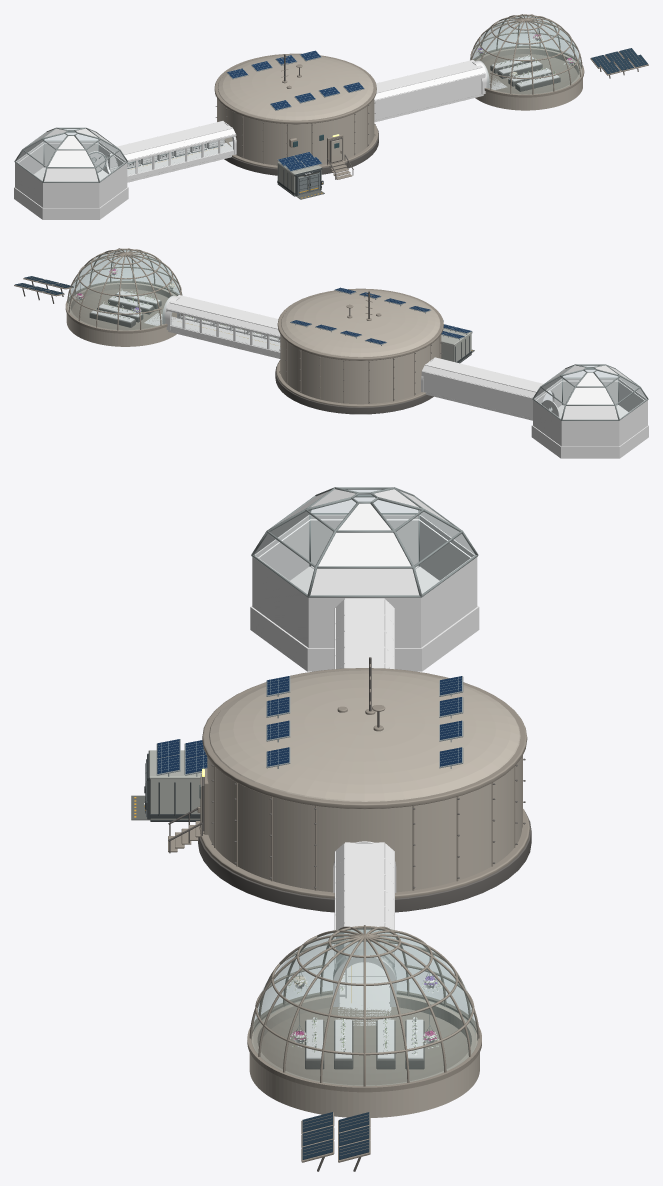
The model's file is rocketship-laboratory.glb.
3 renders of one model, top to bottom at view 1: azimuth 30°, elevation 25°; view 2: azimuth 150°, elevation 25°; view 3: azimuth 270°, elevation 25°, orthographic. The views are drawn at different scales.
Visible parts, largest first — view 1: Rounded habitat roof, Transparent greenhouse dome, Hollow habitat wall with doorway, Hexagonal faceted dome roof, Corridor right pressure wall, Greenhouse base, Greenhouse floor, Hex dome foundation, Hex dome wall 4, Habitat roof rim, West Corridor ceiling panels, Corridor ceiling panels (+14 smaller); view 2: Rounded habitat roof, Hollow habitat wall with doorway, Transparent greenhouse dome, Hexagonal faceted dome roof, West Corridor right pressure wall, Greenhouse base, Greenhouse floor, Hex dome foundation, Hex dome wall 2, Habitat lower foundation, Habitat roof rim, West Corridor ceiling panels (+14 smaller); view 3: Rounded habitat roof, Transparent greenhouse dome, Hollow habitat wall with doorway, Hexagonal faceted dome roof, Greenhouse base, Greenhouse floor, Habitat roof rim, Hex dome foundation, Habitat lower foundation, Corridor ceiling panels, Hex dome wall 5, Hex dome wall 1 (+12 smaller).
Boxes of the visible parts, x1,y1,x2,y2 form: Rounded habitat roof: [218, 54, 373, 120]; Transparent greenhouse dome: [470, 16, 581, 94]; Hollow habitat wall with doorway: [217, 99, 373, 165]; Hexagonal faceted dome roof: [16, 128, 126, 181]; Corridor right pressure wall: [374, 73, 485, 120]; Greenhouse base: [475, 47, 582, 110]; Greenhouse floor: [483, 54, 578, 94]; Hex dome foundation: [14, 187, 128, 219]; Hex dome wall 4: [43, 183, 99, 207]; Habitat roof rim: [214, 53, 376, 124]; West Corridor ceiling panels: [117, 121, 232, 154]; Corridor ceiling panels: [376, 60, 482, 93]; Rounded habitat roof: [281, 289, 440, 357]; Hollow habitat wall with doorway: [280, 335, 441, 404]; Transparent greenhouse dome: [68, 250, 180, 329]; Hexagonal faceted dome roof: [534, 365, 646, 419]; West Corridor right pressure wall: [421, 371, 532, 418]; Greenhouse base: [66, 282, 181, 346]; Greenhouse floor: [71, 289, 176, 330]; Hex dome foundation: [531, 425, 648, 458]; Hex dome wall 2: [561, 421, 619, 446]; Habitat lower foundation: [275, 364, 433, 414]; Habitat roof rim: [277, 288, 443, 360]; West Corridor ceiling panels: [425, 357, 543, 392]; Rounded habitat roof: [209, 669, 520, 801]; Transparent greenhouse dome: [252, 928, 477, 1085]; Hollow habitat wall with doorway: [207, 757, 522, 892]; Hexagonal faceted dome roof: [254, 489, 474, 595]; Greenhouse base: [249, 994, 479, 1117]; Greenhouse floor: [261, 1007, 468, 1085]; Habitat roof rim: [202, 668, 527, 809]; Hex dome foundation: [250, 605, 479, 671]; Habitat lower foundation: [198, 812, 531, 912]; Corridor ceiling panels: [345, 842, 384, 954]; Hex dome wall 5: [252, 555, 308, 647]; Hex dome wall 1: [421, 555, 477, 647].
Bounding box in the file's own units: 102 × 14.64 × 29.18.
